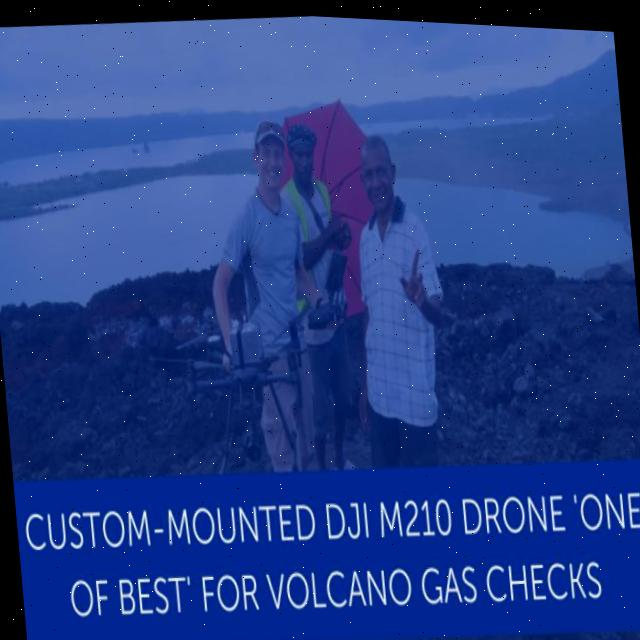drone: (157, 303, 320, 416)
